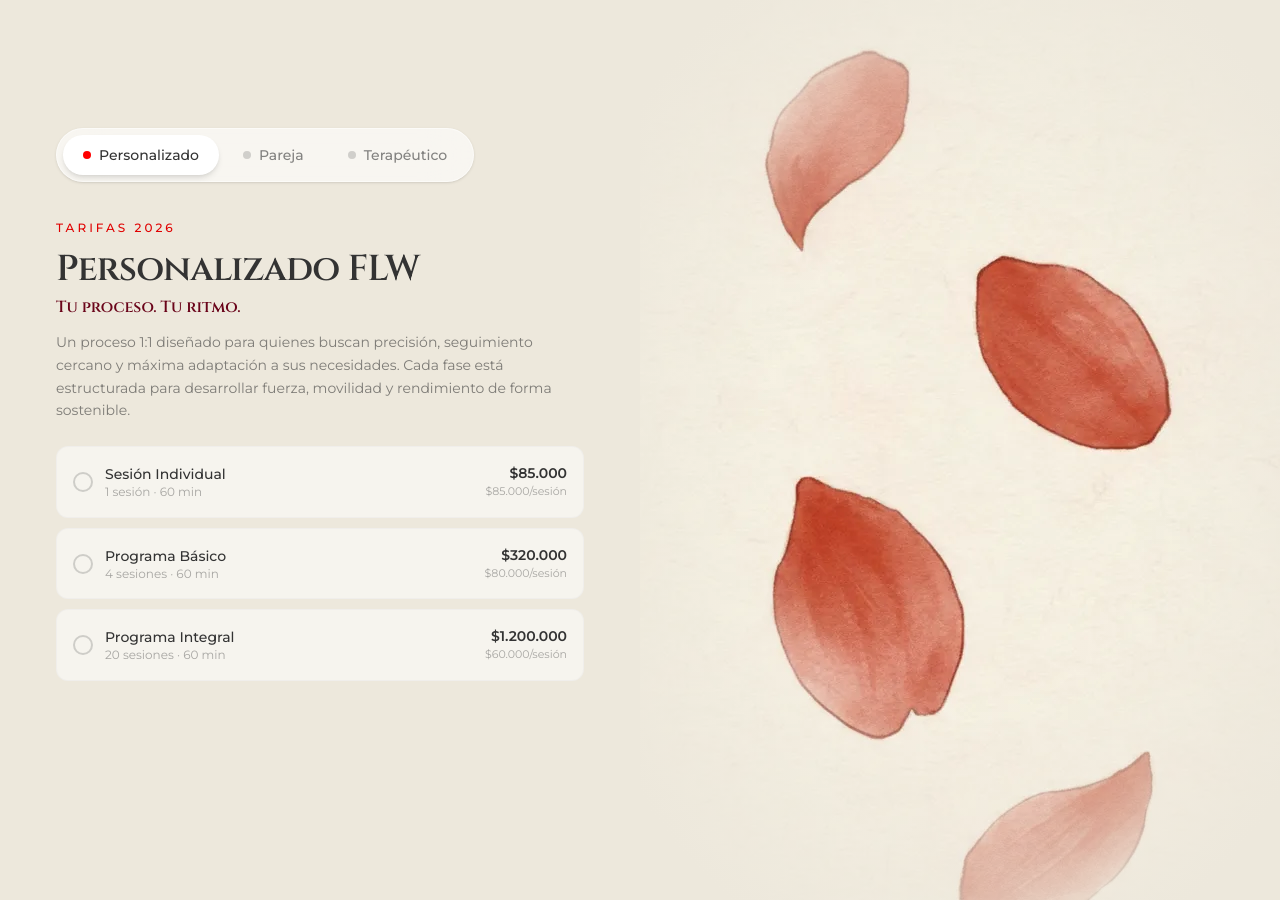
Test case: ProgramsPage › resets plan selection when switching programs
Expected: the text "Sesión Individual" is shown, [105,464,226,484]
What coordinates should you click on to do the following:
click the button "Sesión Individual"
I would click on:
 (165, 474)
Its box is [56,446,584,518].
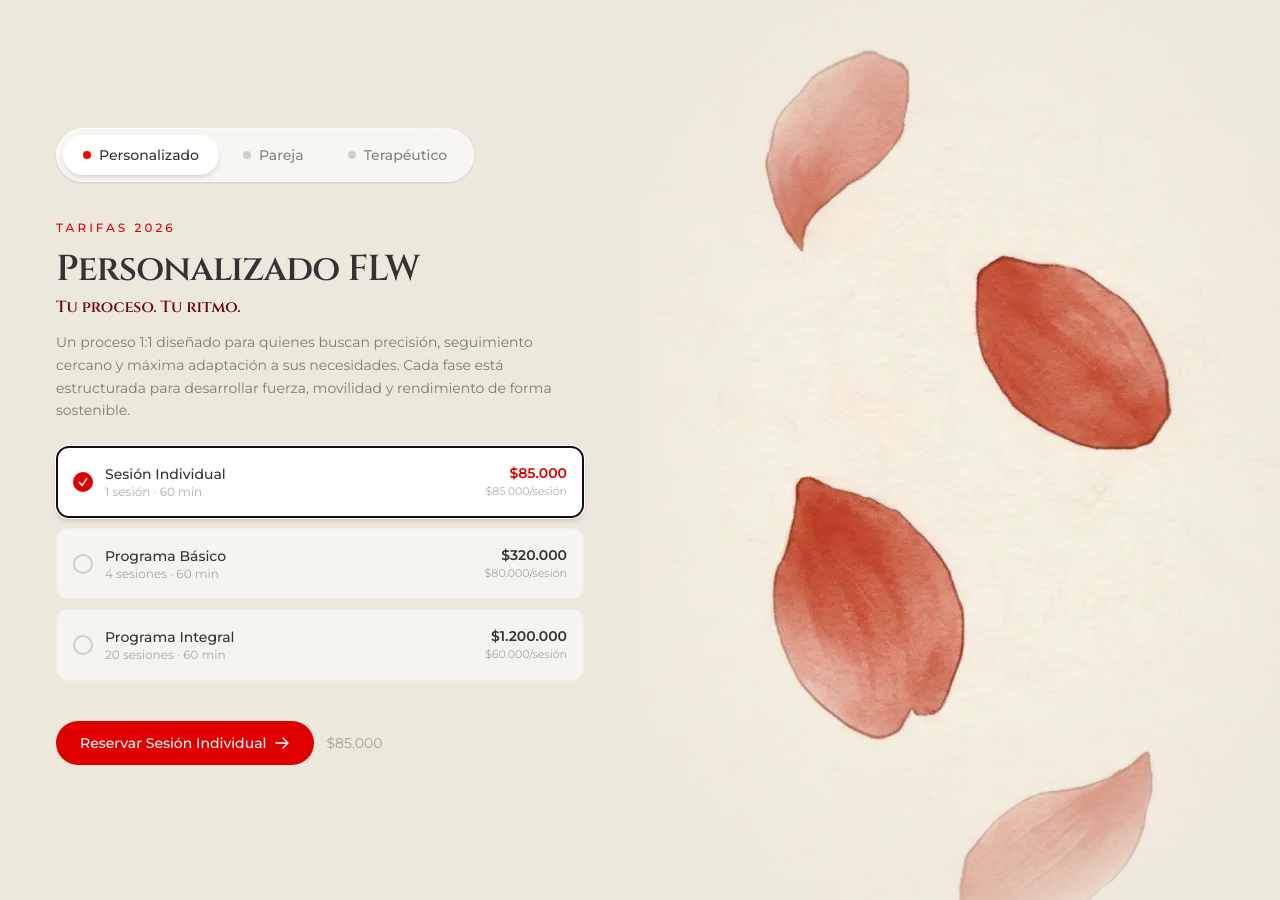
Now the button "Reservar Sesión Individual" is shown, box [56,721,314,765]
Note: Switch to Pareja
What coordinates should you click on to do the following:
click the button "Pareja"
I would click on:
 (273, 155)
Its box is [223,135,324,175].
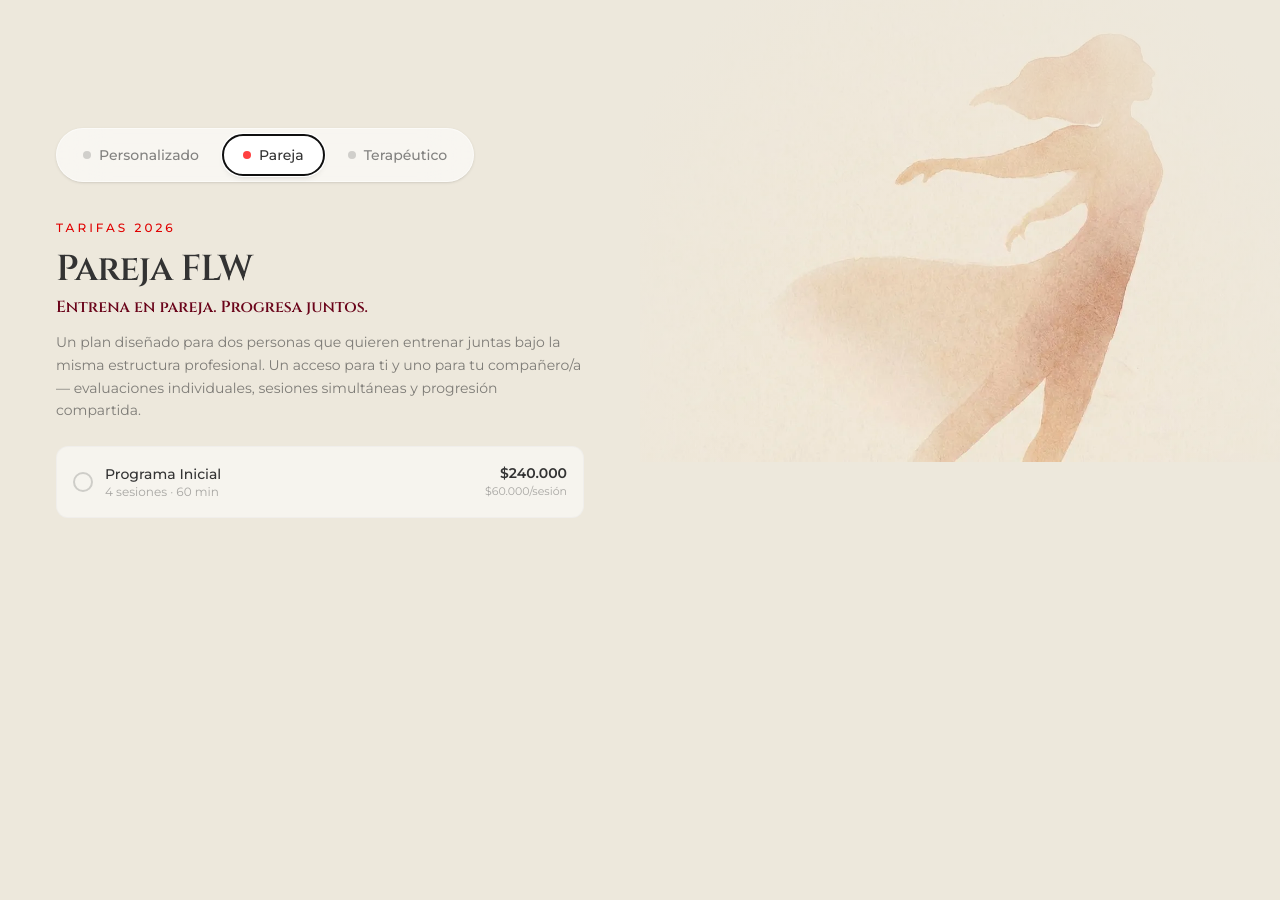
Now the button "Reservar Sesión Individual" is gone
